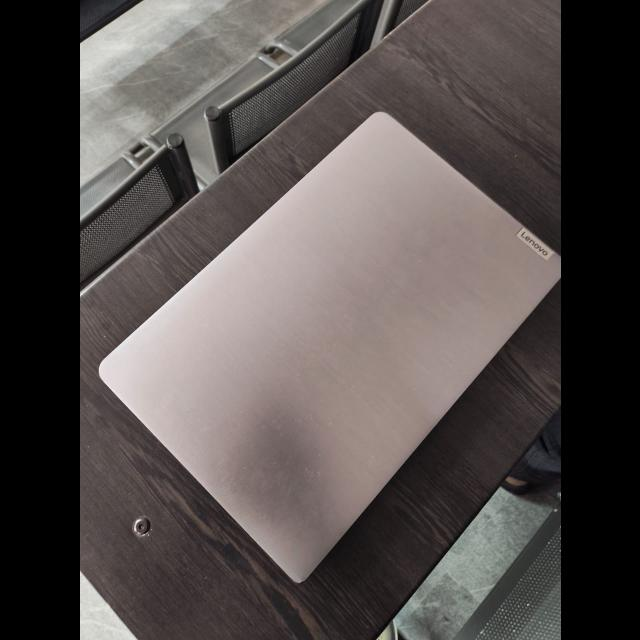laptop: (99, 116, 561, 594)
